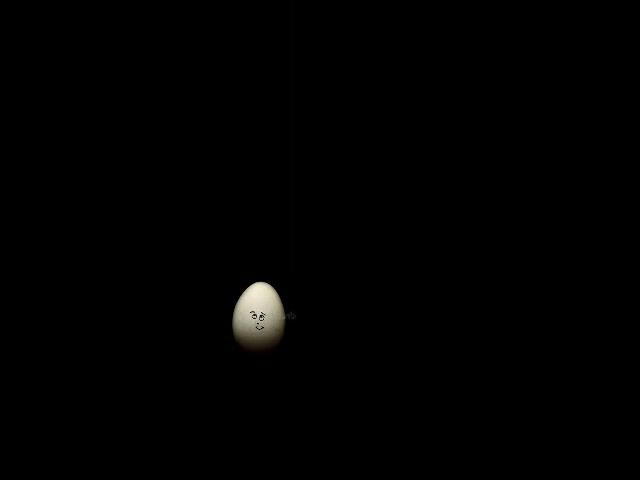egg: (232, 281, 284, 351)
